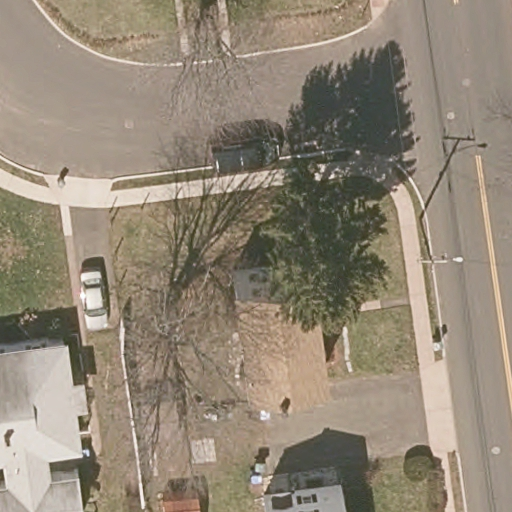DT: (418, 216, 464, 265)
